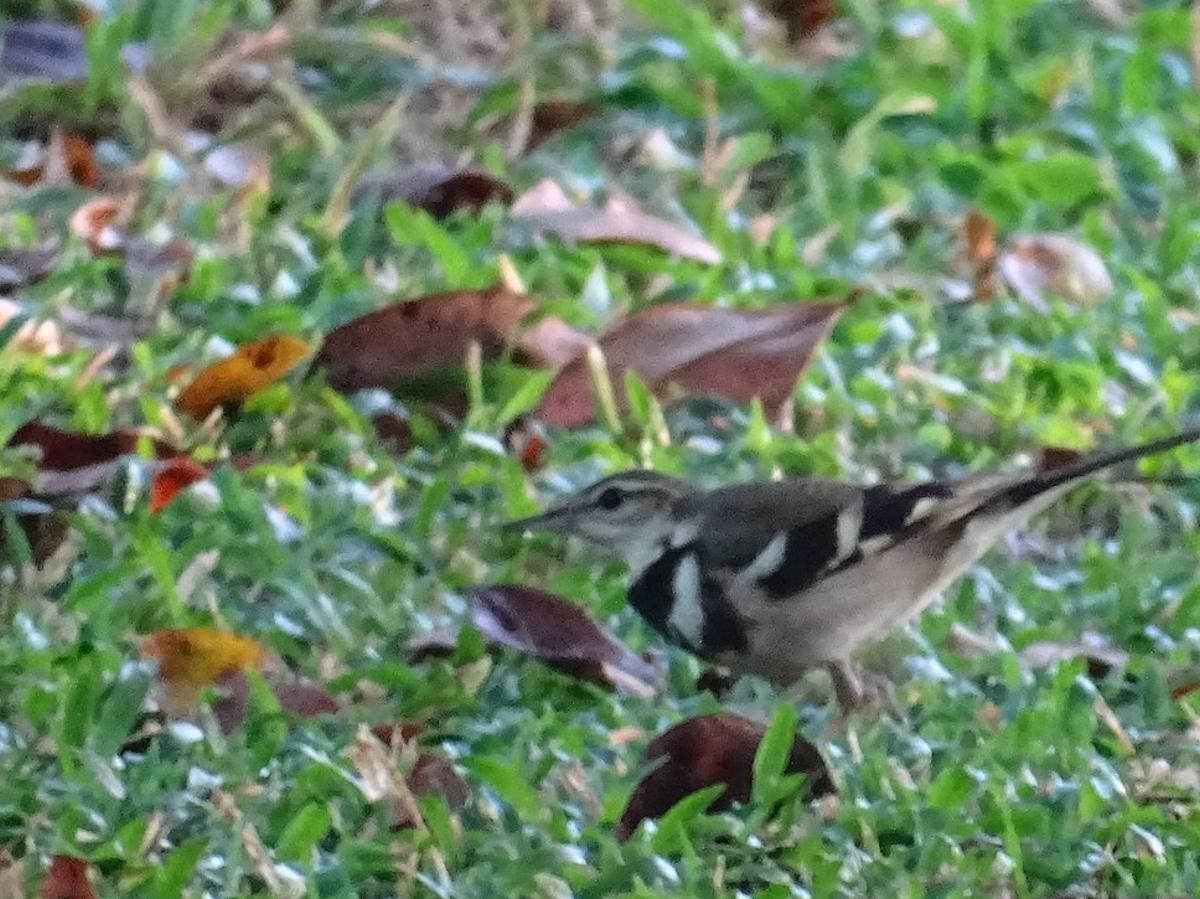wagtail: (524, 432, 987, 730)
